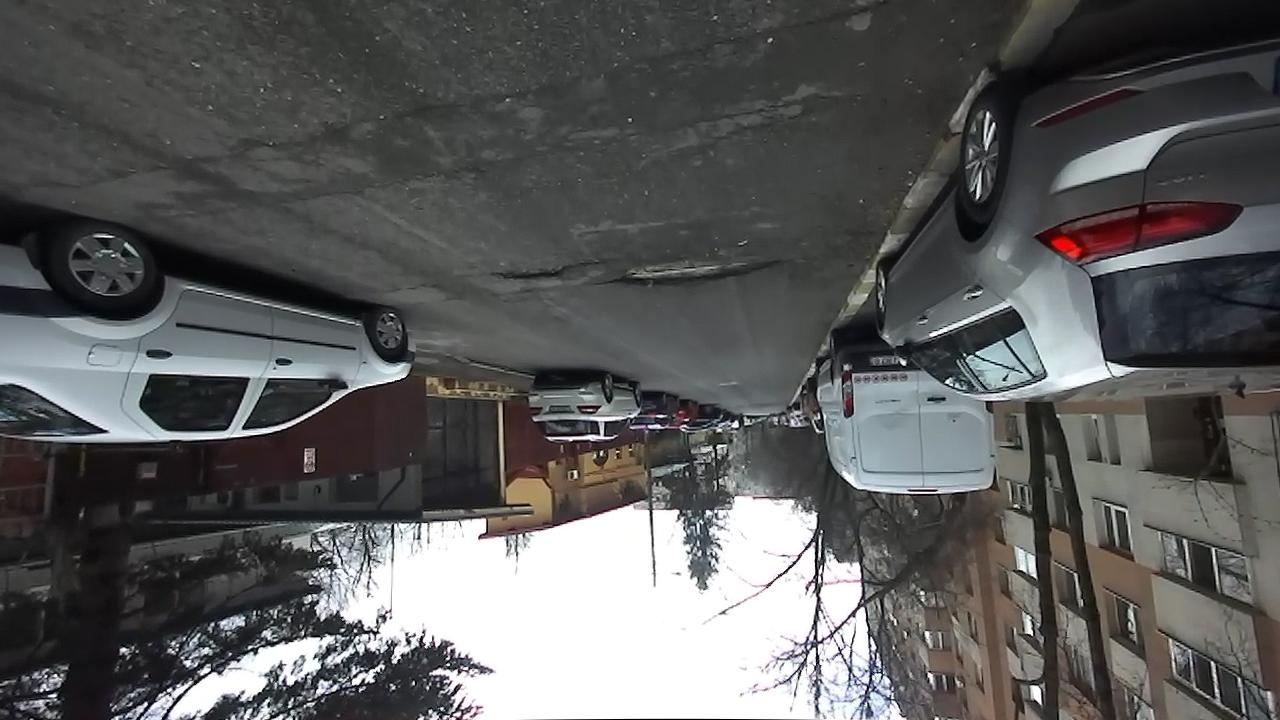pothole: (603, 253, 791, 290), (490, 256, 599, 284)
